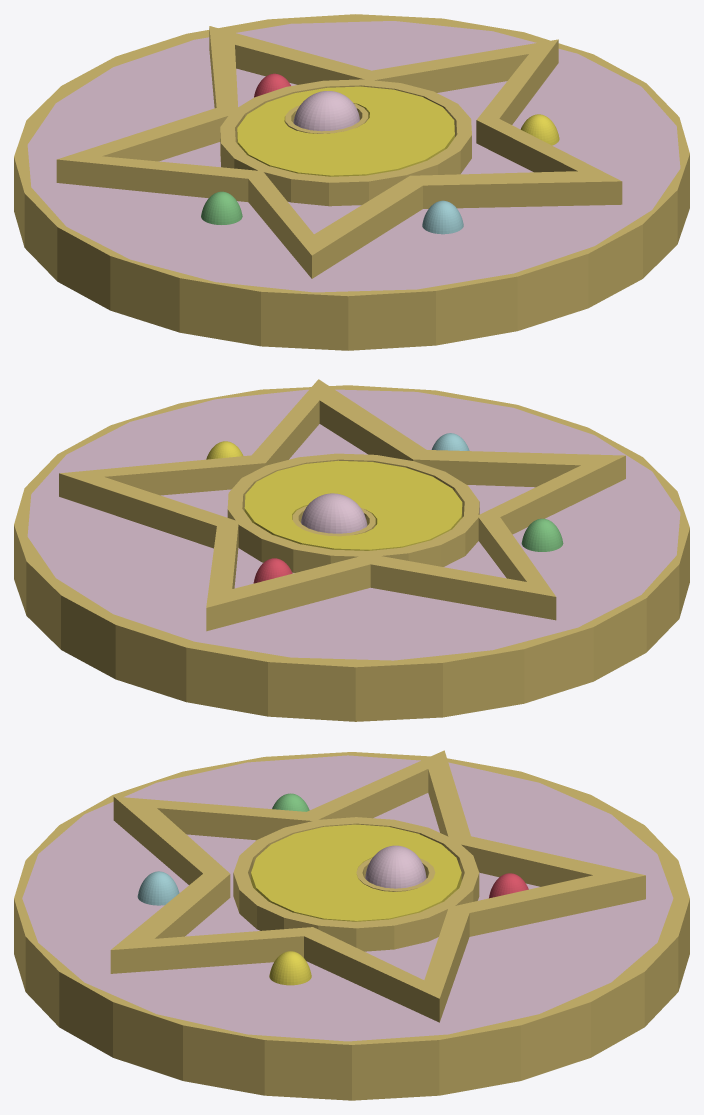
File: asset.glb
3 renders of one model, top to bottom at view 1: azimuth 30°, elevation 25°; view 2: azimuth 150°, elevation 25°; view 3: azimuth 270°, elevation 25°, orthographic.
Parts seen in each view (by area): view 1: Mesh_Mesh_head_geo.001_lambert2SG.001; view 2: Mesh_Mesh_head_geo.001_lambert2SG.001; view 3: Mesh_Mesh_head_geo.001_lambert2SG.001.
Part boxes in pixels (x1,y1,x2,y2): Mesh_Mesh_head_geo.001_lambert2SG.001: (14,14,689,350); Mesh_Mesh_head_geo.001_lambert2SG.001: (14,379,689,721); Mesh_Mesh_head_geo.001_lambert2SG.001: (14,750,689,1100).
Size of the model in its own units: 79 by 13 by 77.
